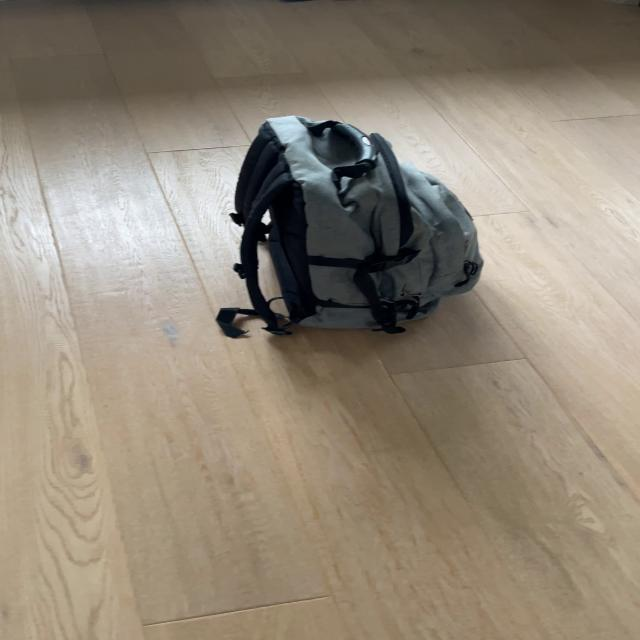backpack: (220, 107, 496, 338)
